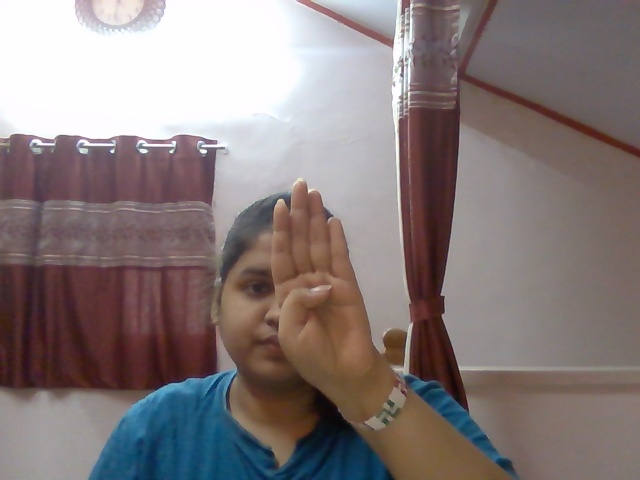b: (246, 170, 387, 390)
